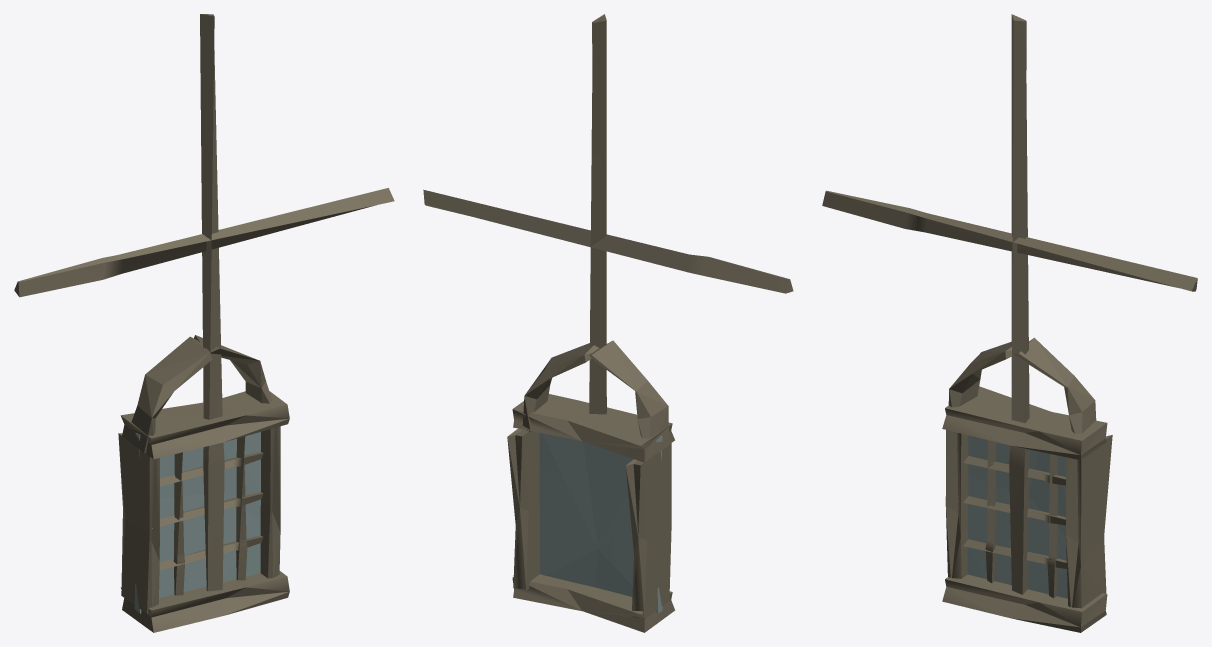
The model's file is window.fbx.
3 views of the same model, side by side, from view 1: azimuth 30°, elevation 25°; view 2: azimuth 150°, elevation 25°; view 3: azimuth 330°, elevation 25° (orthographic). The views are drawn at different scales.
Parts seen in each view (by area): view 1: window_Merged; view 2: window_Merged; view 3: window_Merged.
Boxes of the visible parts, bbox=[...] form: window_Merged: bbox=[14, 14, 394, 632]; window_Merged: bbox=[423, 14, 793, 632]; window_Merged: bbox=[822, 14, 1197, 632].
Bounding box in the file's own units: 538 × 821 × 94.93.
